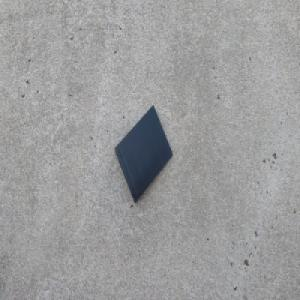PlasticPart: (114, 104, 173, 203)
